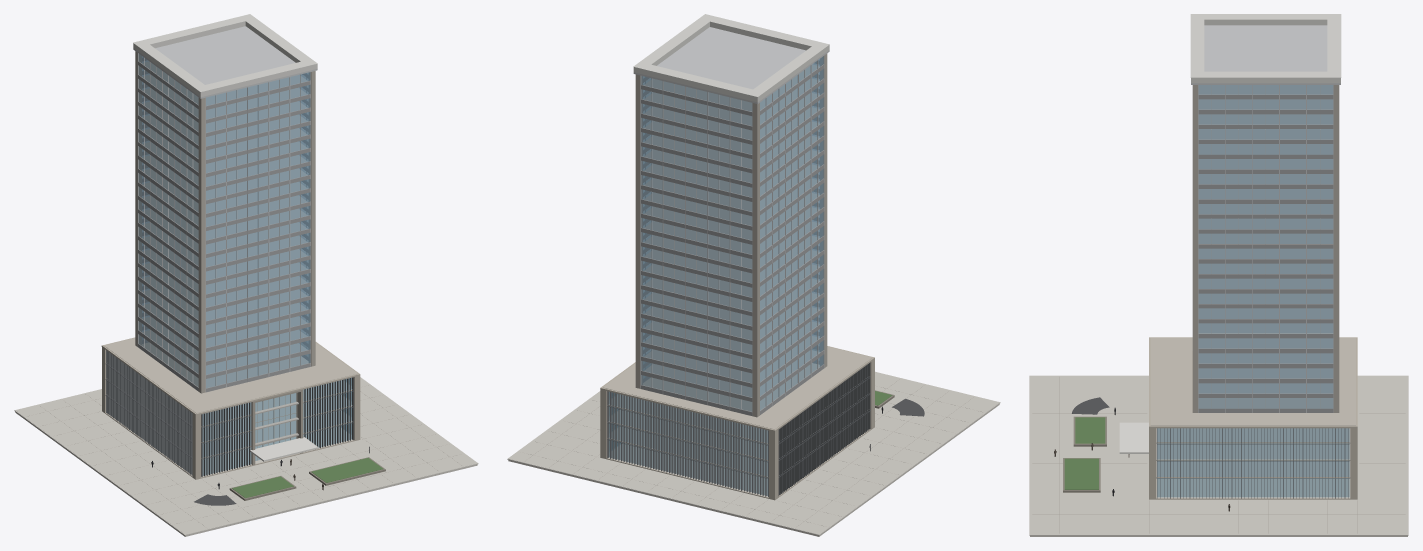
The model's file is High-Rise-Tower.dae.
The picture shows the model from 3 angles, left to right: view 1: azimuth 30°, elevation 25°; view 2: azimuth 150°, elevation 25°; view 3: azimuth 270°, elevation 25°; orthographic projection. The views are drawn at different scales.
Visible parts, largest first — view 1: Tower_Glazing, Floor_Plates, Site_Plaza, Tower_Spandrels, Podium_Fins, Tower_Mullions, Tower_Corner_Piers, Podium_Terrace, Roof, Podium_Walls, Roof_Parapet, Podium_Glazing (+6 smaller); view 2: Tower_Glazing, Floor_Plates, Site_Plaza, Tower_Spandrels, Podium_Fins, Tower_Mullions, Tower_Corner_Piers, Podium_Glazing, Roof, Podium_Walls, Roof_Parapet, Podium_Terrace; view 3: Floor_Plates, Site_Plaza, Tower_Glazing, Tower_Spandrels, Podium_Glazing, Podium_Terrace, Roof, Roof_Parapet, Podium_Walls, Podium_Fins, Tower_Corner_Piers, Tower_Mullions (+4 smaller).
Part boxes in pixels (x1,y1,x2,y2): Tower_Glazing: (138,54,310,388); Floor_Plates: (142,61,351,456); Site_Plaza: (14,377,478,536); Tower_Spandrels: (138,57,310,392); Podium_Fins: (105,350,353,476); Tower_Mullions: (137,53,310,391); Tower_Corner_Piers: (135,51,315,393); Podium_Terrace: (104,338,357,413); Roof: (133,26,317,98); Podium_Walls: (101,337,360,479); Roof_Parapet: (133,14,317,97); Podium_Glazing: (202,378,351,475); Tower_Glazing: (641,56,823,411); Floor_Plates: (609,64,819,476); Site_Plaza: (507,371,1000,536); Tower_Spandrels: (641,60,824,415); Podium_Fins: (607,363,870,497); Tower_Mullions: (640,55,824,415); Tower_Corner_Piers: (635,53,827,417); Podium_Glazing: (609,392,767,495); Roof: (633,27,829,103); Podium_Walls: (600,346,874,500); Roof_Parapet: (633,14,829,102); Podium_Terrace: (603,346,872,429); Floor_Plates: (1156,85,1350,478); Site_Plaza: (1029,375,1408,536); Tower_Glazing: (1198,85,1333,408); Tower_Spandrels: (1198,94,1333,412); Podium_Glazing: (1157,428,1349,497); Podium_Terrace: (1150,338,1355,425); Roof: (1191,25,1340,84); Roof_Parapet: (1190,14,1341,83); Podium_Walls: (1149,337,1357,499); Podium_Fins: (1157,428,1349,498); Tower_Corner_Piers: (1192,85,1339,412); Tower_Mullions: (1198,85,1333,412).
Bounding box in the file's own units: 3240 × 3260 × 3906.
